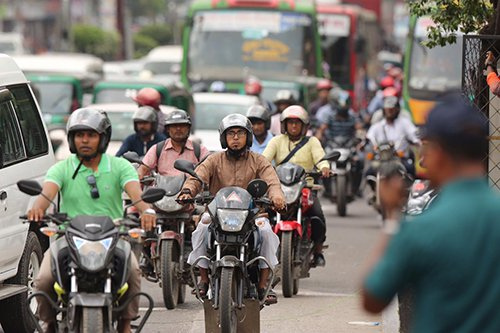helmet: (62, 103, 113, 161), (216, 111, 254, 156), (278, 103, 313, 140), (163, 109, 196, 142), (131, 106, 156, 135)
